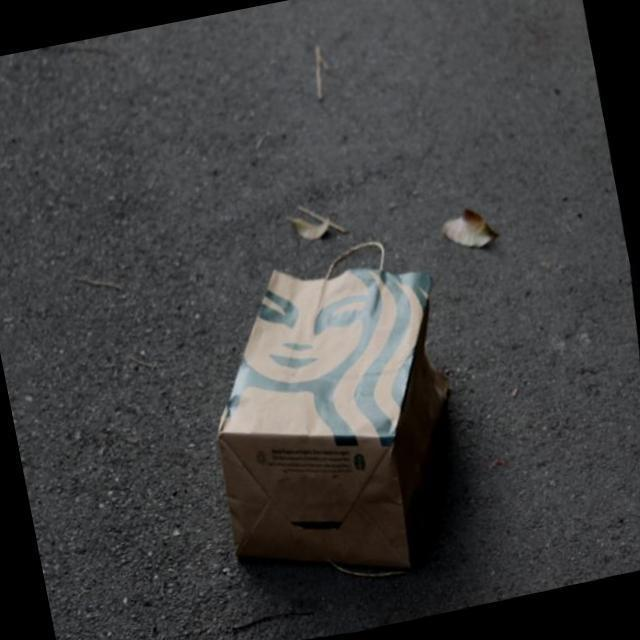Paper_Bag: (171, 216, 498, 614)
